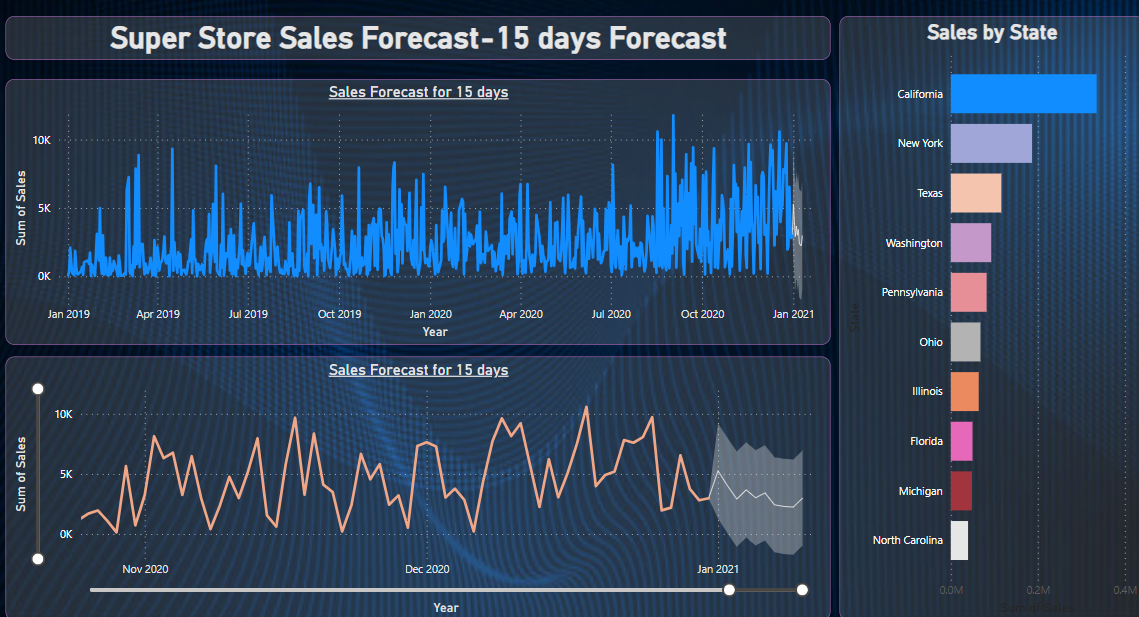

What the dashboard file says about the page in this screenshot:
{"tool":"powerbi","page":{"name":"Page 2","canvas":[1280,720],"ordinal":1},"visuals":[{"type":"lineChart","title":"Sales Forecast for 15 days","fields":{"Y":["Sum(super sale.Sales)"],"Category":["super sale.Order Date.Variation.Date Hierarchy.Year","super sale.Order Date.Variation.Date Hierarchy.Quarter","super sale.Order Date.Variation.Date Hierarchy.Month","super sale.Order Date.Variation.Date Hierarchy.Day"]},"box":[15,106.7,916.7,295],"z":0},{"type":"lineChart","title":"Sales Forecast for 15 days","fields":{"Y":["Sum(super sale.Sales)"],"Category":["super sale.Order Date.Variation.Date Hierarchy.Year","super sale.Order Date.Variation.Date Hierarchy.Quarter","super sale.Order Date.Variation.Date Hierarchy.Month","super sale.Order Date.Variation.Date Hierarchy.Day"]},"box":[15,415,916.7,293.3],"z":1000},{"type":"textbox","title":"Super Store Sales Forecast-15 days Forecast ","box":[15,36.7,916.7,48.3],"z":2000},{"type":"clusteredBarChart","title":" Sales by State","fields":{"Category":["super sale.State"],"Y":["Sum(super sale.Sales)"]},"box":[941.7,36.7,338.3,671.7],"z":3000}]}

Visuals, with their boxes on the page's 1280x720 design canvas (x1, y1, x2, y2). These are canvas units, not pixel positions in the 1139x617 screenshot, which may show the page scaled, cropped or inside an application window:
"Sales Forecast for 15 days" lineChart: (15, 107, 932, 402)
"Sales Forecast for 15 days" lineChart: (15, 415, 932, 708)
"Super Store Sales Forecast-15 days Forecast " textbox: (15, 37, 932, 85)
" Sales by State" clusteredBarChart: (942, 37, 1280, 708)
